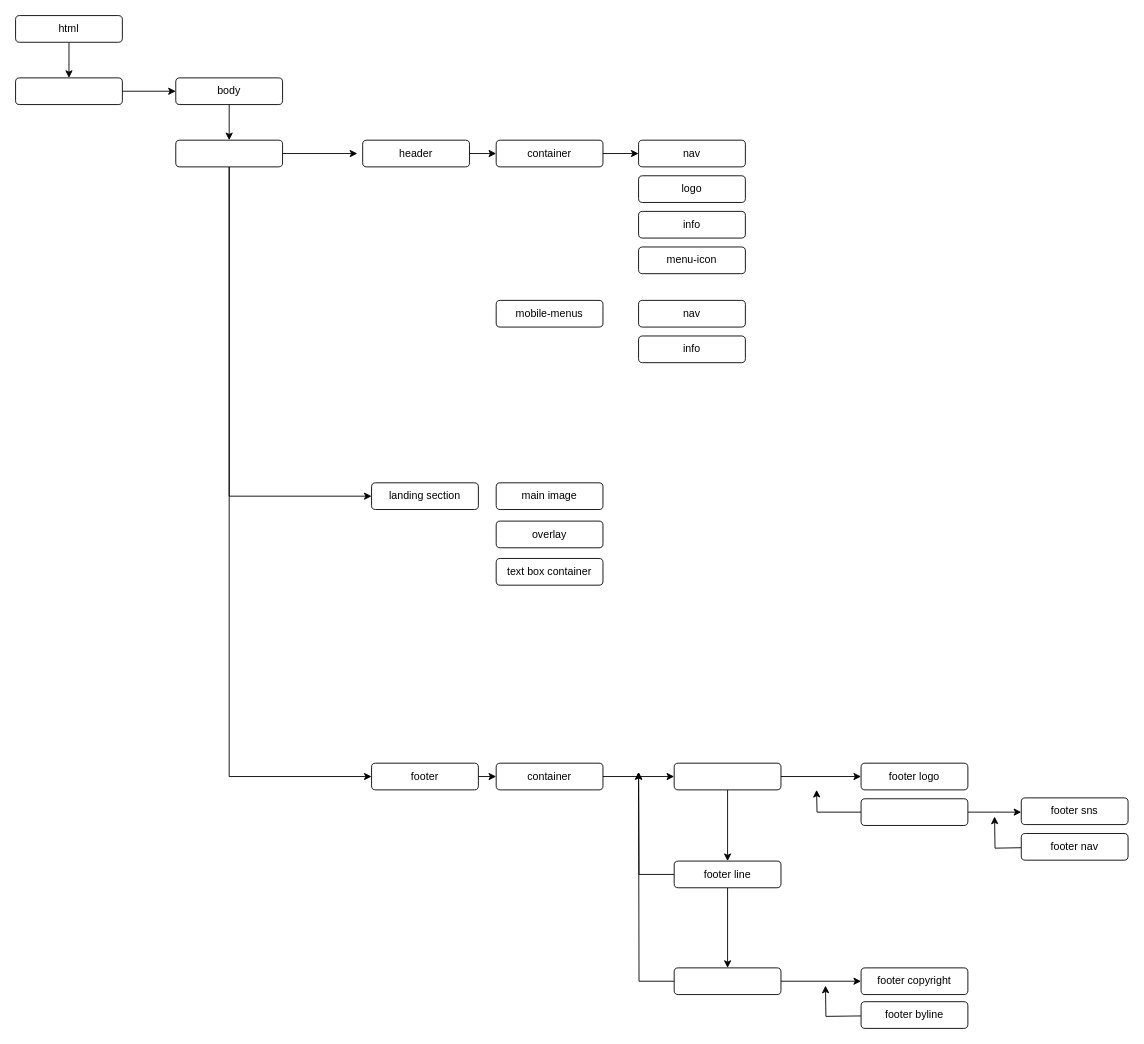
Some shapes in this 1144 by 1044 pixel diagram are drawn without their labels. The shapes that lost their labels are listed below. From the top down, each one's centre as x and y in pixels, then its label:
At point 68,91: "head".
At point 229,153: ".wrapper".
At point 727,776: "footer upper".
At point 914,811: "footer info".
At point 727,981: "footer lower".
